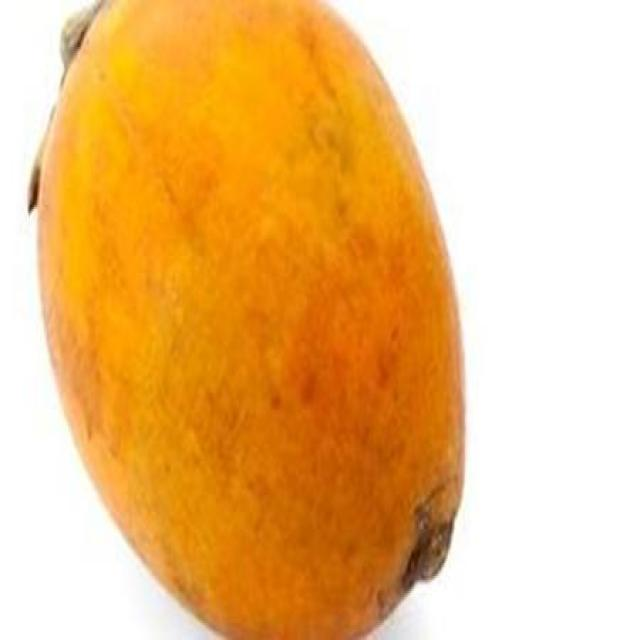good: (28, 0, 468, 638)
